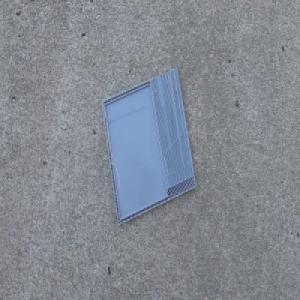PlasticPart: (100, 65, 197, 226)
